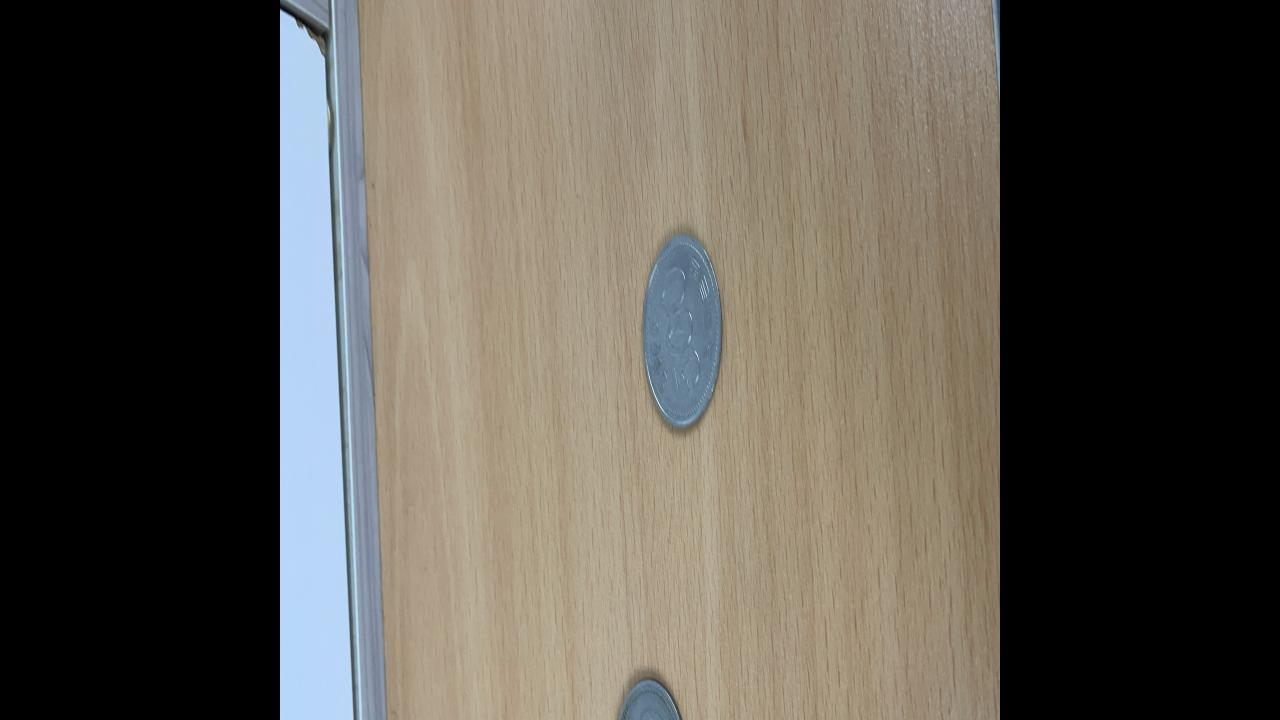coin: (638, 224, 724, 434), (610, 669, 692, 720)
